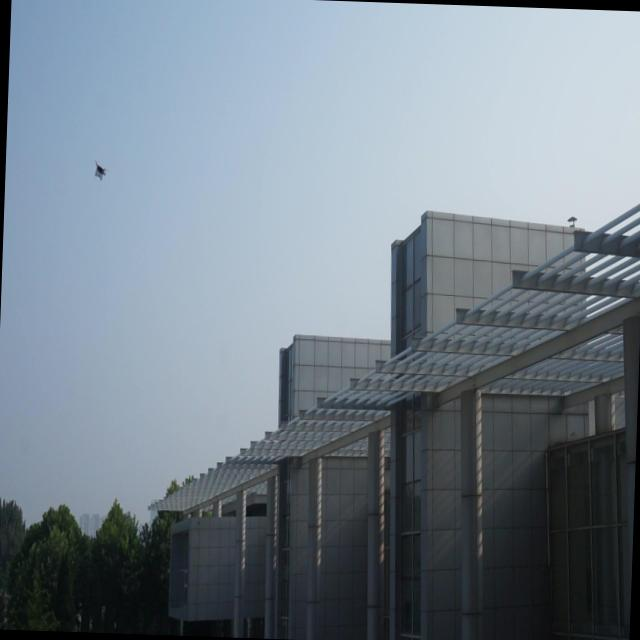drone: (92, 156, 106, 182)
